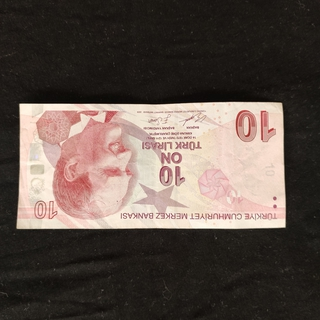10TLFront: (15, 100, 287, 230)
